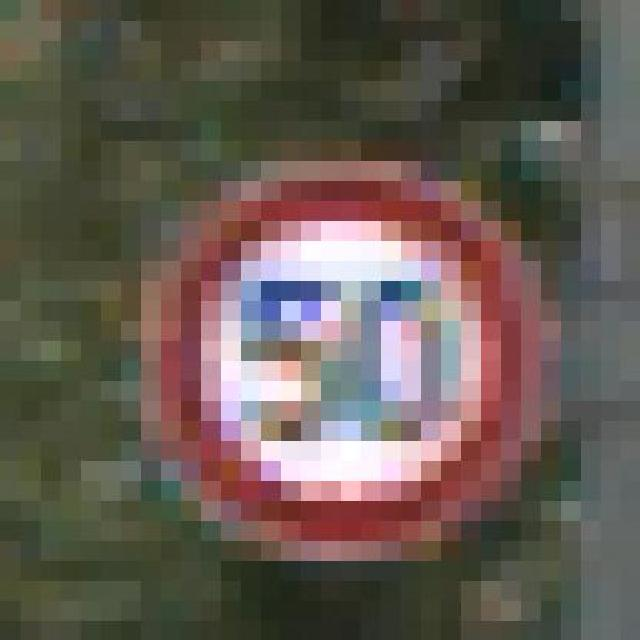Speed limit 50: (141, 158, 535, 561)
